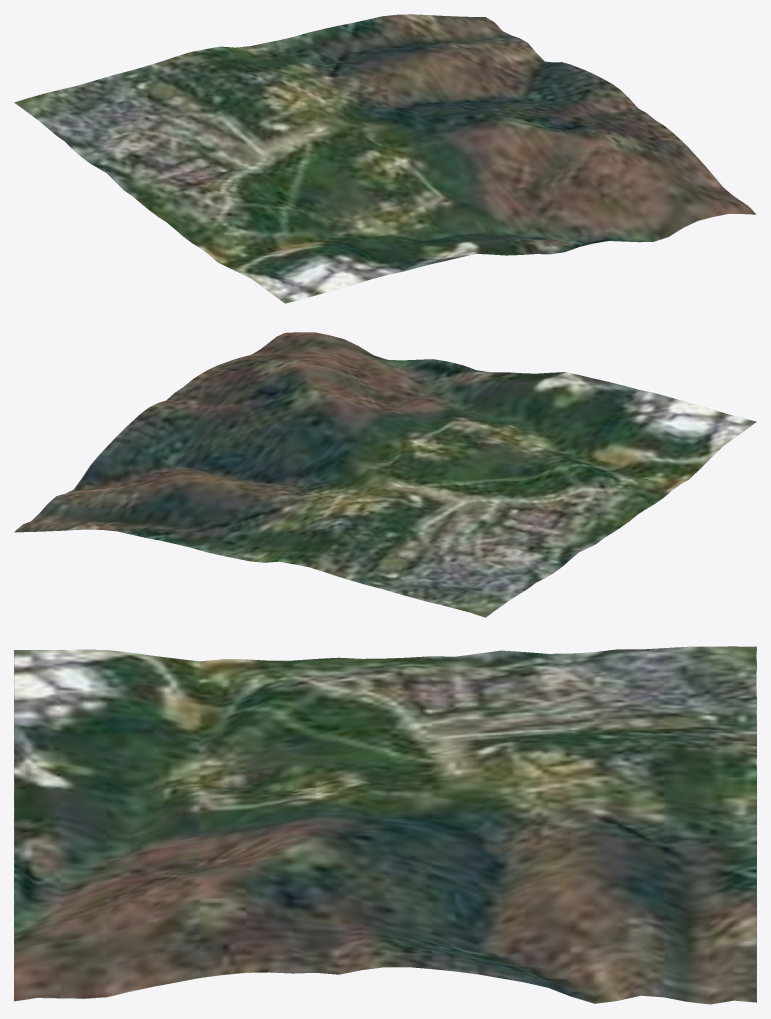
The picture shows the model from 3 angles, top to bottom: view 1: azimuth 30°, elevation 25°; view 2: azimuth 150°, elevation 25°; view 3: azimuth 270°, elevation 25°; orthographic projection. The views are drawn at different scales.
Bounding box in the file's own units: 1951 × 198 × 1943.
Materials: 1 (1 with a texture image).
